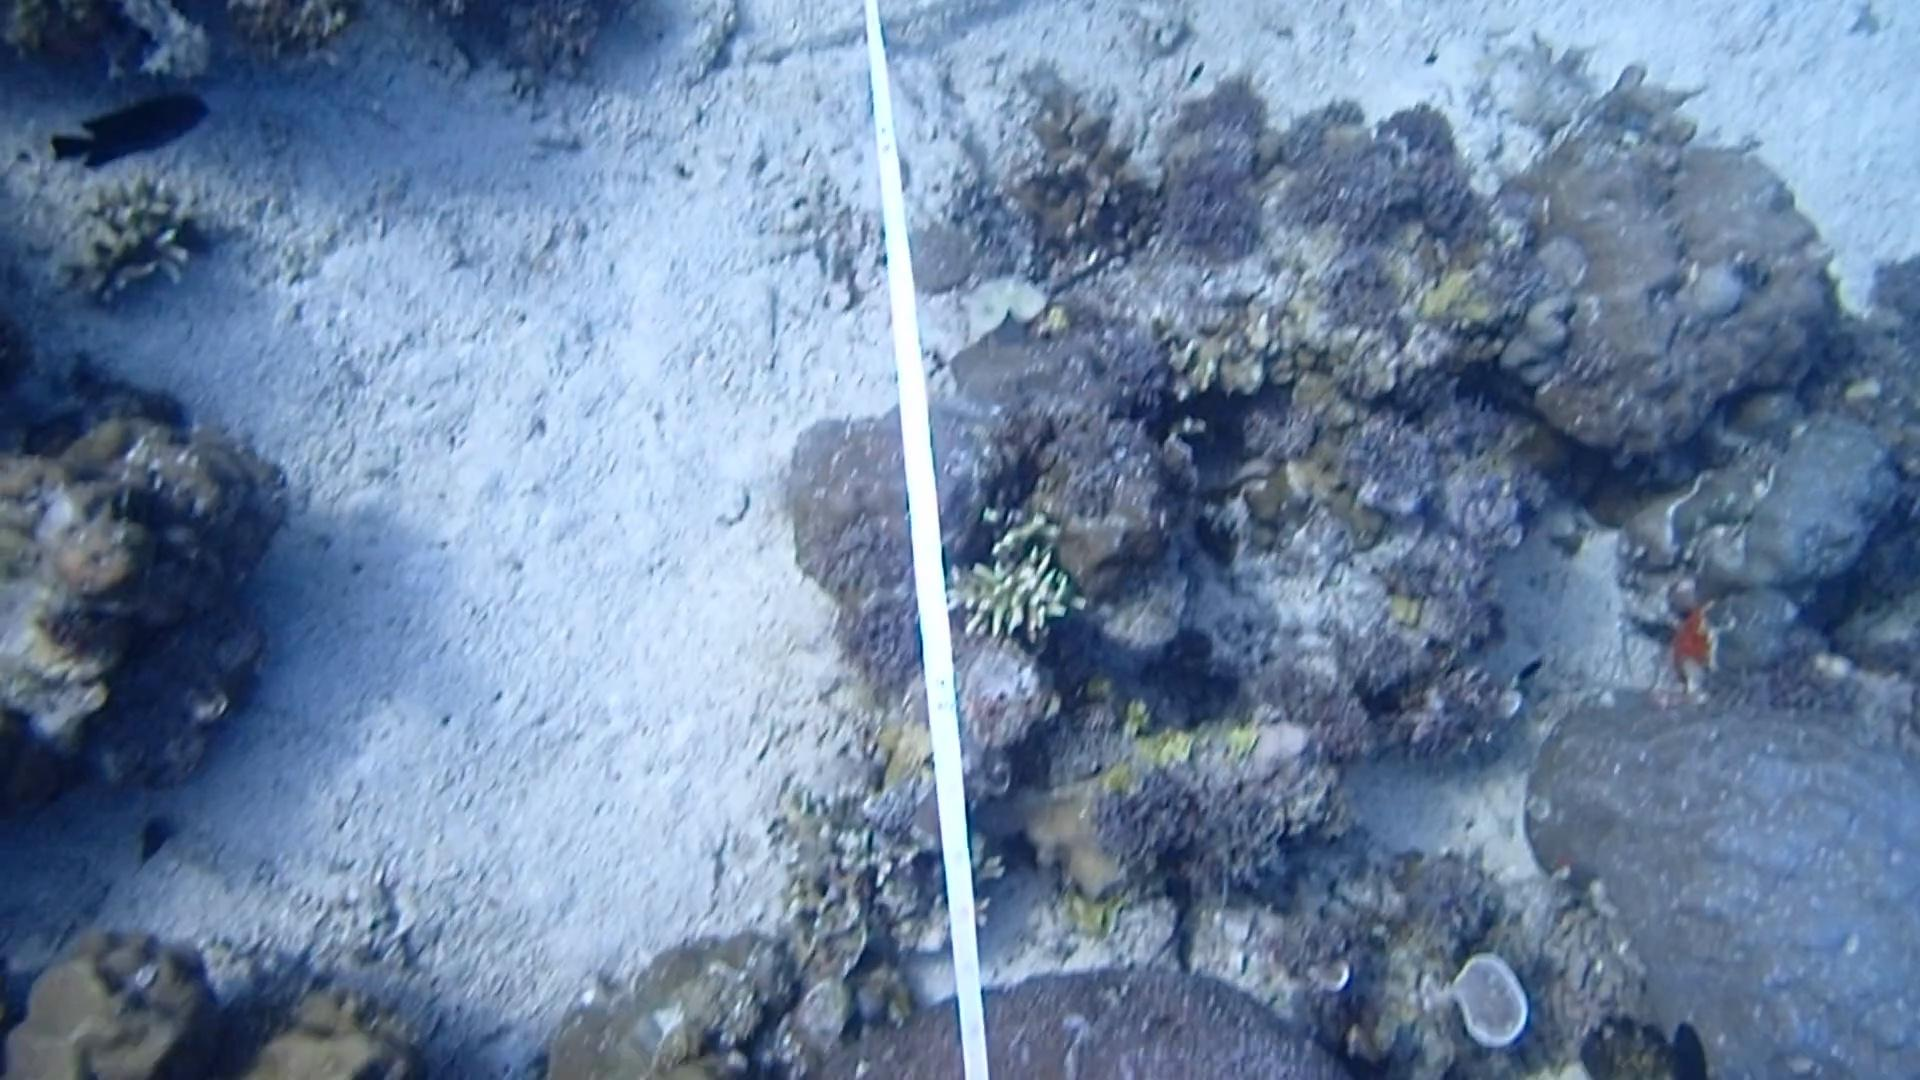Dark Fish: (50, 83, 212, 179)
